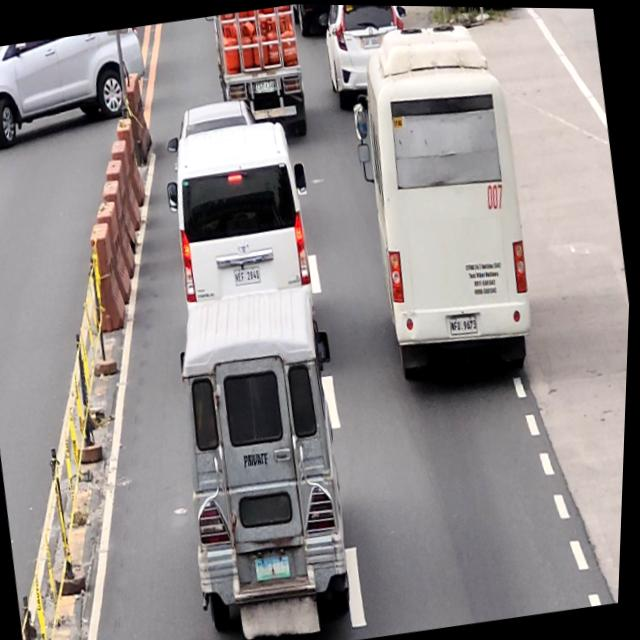Bus: (335, 11, 554, 393)
Car: (156, 117, 331, 335), (316, 4, 420, 110), (172, 94, 260, 142)
Jeep: (161, 278, 376, 640)
License-Plate: (258, 552, 298, 583), (449, 311, 483, 336), (234, 265, 265, 287), (253, 77, 278, 96), (362, 32, 383, 48)
Truck: (206, 2, 315, 146)
